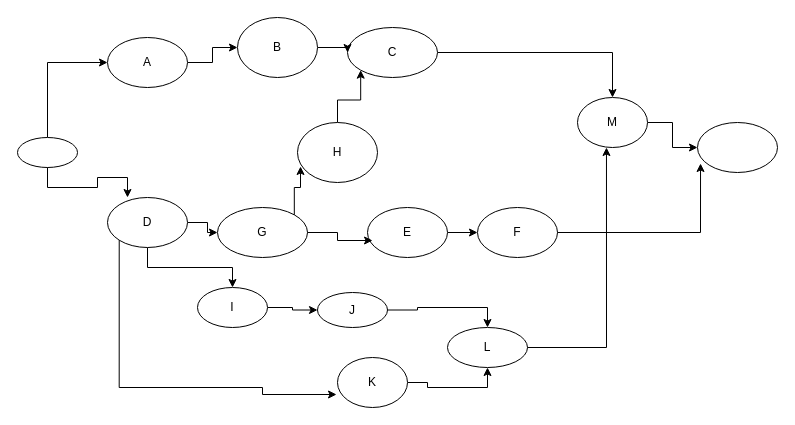
Some shapes in this 795 by 425 pixel diagram are drawn without their labels. The shapes that lost their labels are listed below. From the top down, each one's centre as x and y in pixels, then its label:
At pixel 47 152: "Inicio".
At pixel 737 147: "Fin".
